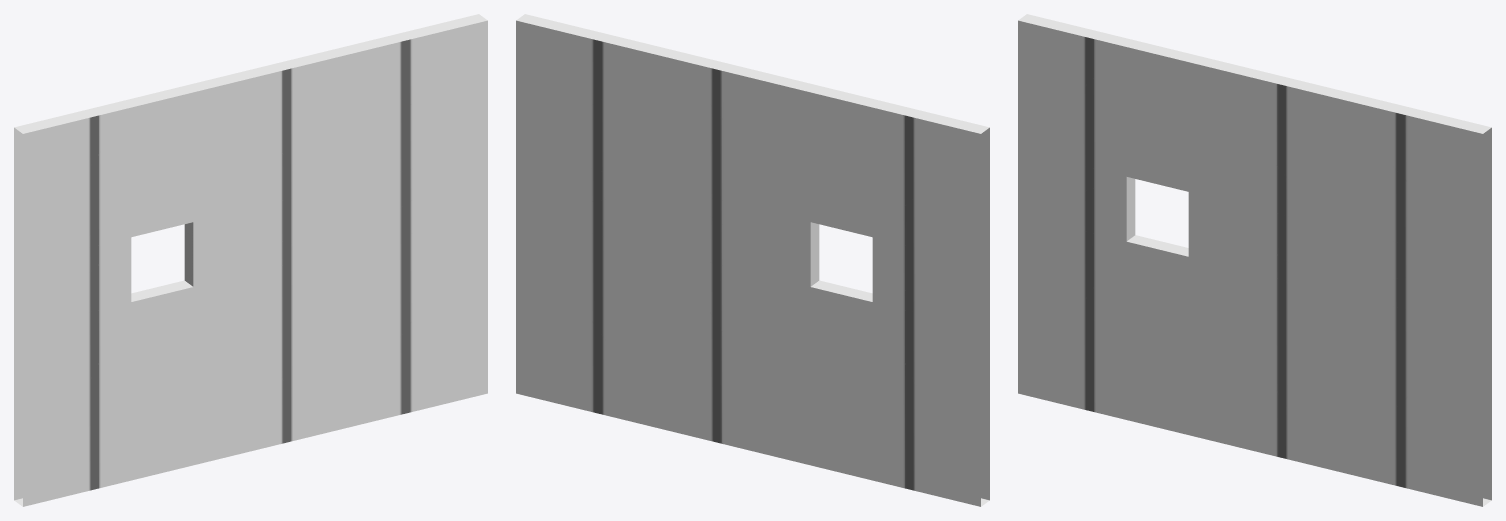
File: SM_WallWithHole_Var1_300x230x10.fbx
3 views of the same model, side by side, from view 1: azimuth 30°, elevation 25°; view 2: azimuth 150°, elevation 25°; view 3: azimuth 330°, elevation 25° (orthographic).
Parts seen in each view (by area): view 1: WallWithHole_Var1_300x230x10; view 2: WallWithHole_Var1_300x230x10; view 3: WallWithHole_Var1_300x230x10.
Boxes of the visible parts, left/top/right/bottom form: WallWithHole_Var1_300x230x10: left=14, top=14, right=487, bottom=506; WallWithHole_Var1_300x230x10: left=516, top=14, right=989, bottom=506; WallWithHole_Var1_300x230x10: left=1018, top=14, right=1491, bottom=506.
Bounding box in the file's own units: 300 × 230 × 10.
